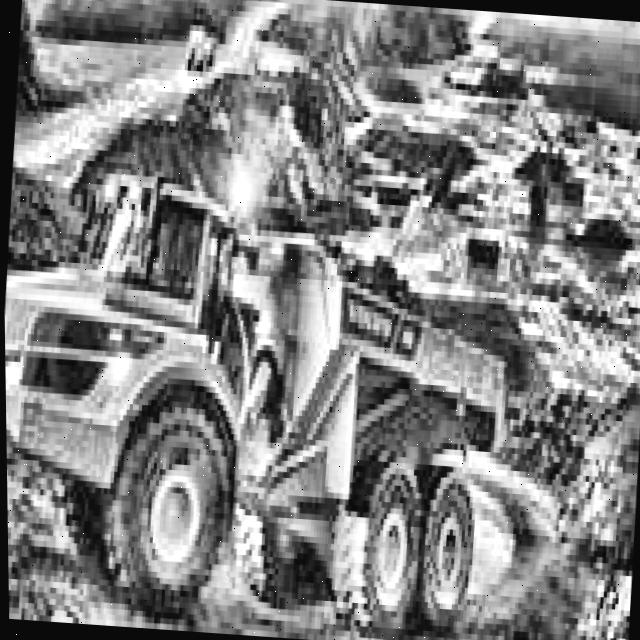dump_truck: (1, 110, 602, 635)
